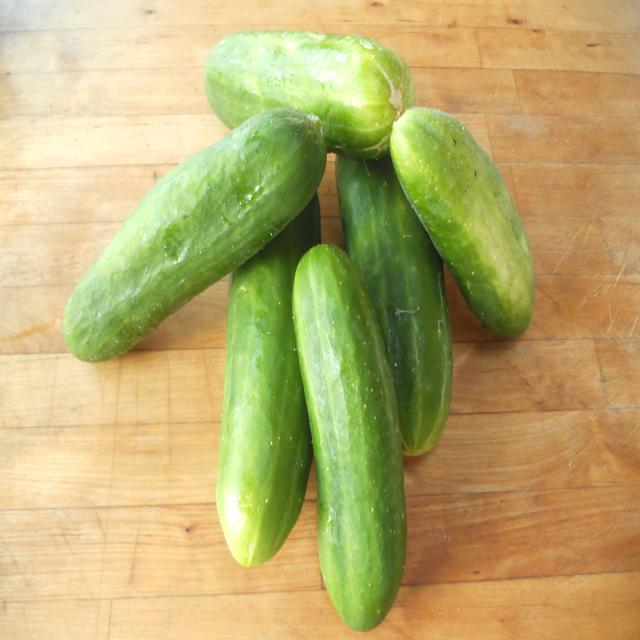cucumber: (63, 107, 326, 367), (293, 247, 411, 629), (218, 193, 323, 565), (334, 151, 454, 463), (390, 103, 534, 341), (205, 34, 415, 155)
